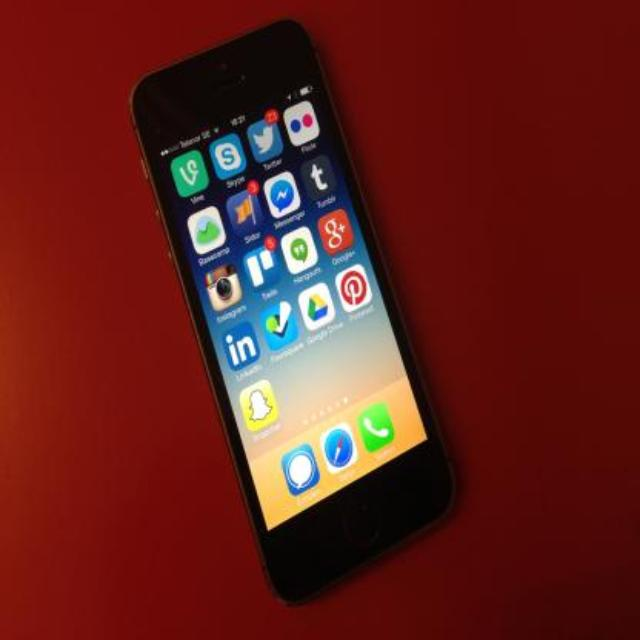Smartphone: (106, 28, 480, 620)
